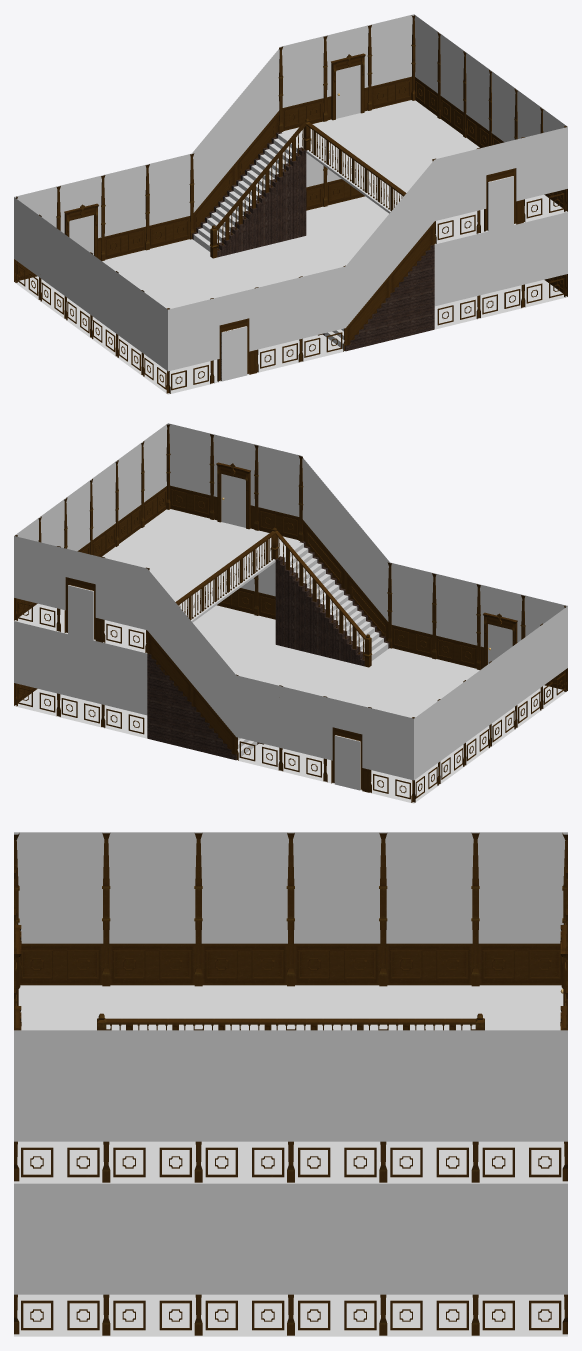
The model's file is Roulette_room_asset.fbx.
The picture shows the model from 3 angles, top to bottom: view 1: azimuth 30°, elevation 25°; view 2: azimuth 150°, elevation 25°; view 3: azimuth 270°, elevation 25°; orthographic projection. The views are drawn at different scales.
Visible parts, largest first — view 1: Plane.008, stairs0.003, Plane.132, stairs0.004, Plane.120, Plane.121, Plane.042, Plane.040, Plane.112, Plane.030, Plane.113, Plane.029 (+61 smaller); view 2: Plane.008, stairs0.004, Plane.132, stairs0.003, Plane.113, Plane.112, Plane.029, Plane.030, Plane.040, Plane.115, Plane.121, Plane.120 (+62 smaller); view 3: Plane.116, Plane.119, Plane.118, Plane.117, Plane.114, Plane.110, Plane.025, Plane.038, Plane.044, Plane.047, Plane.024, Plane.028 (+45 smaller).
Part boxes in pixels (x1,y1,x2,y2): Plane.008: (191,47,434,345); stairs0.003: (192,122,306,258); Plane.132: (161,240,355,304); stairs0.004: (318,244,434,351); Plane.120: (147,153,191,248); Plane.121: (103,164,147,259); Plane.042: (369,14,413,109); Plane.040: (281,36,324,130); Plane.112: (257,277,301,368); Plane.030: (434,148,478,239); Plane.113: (301,266,345,357); Plane.029: (523,127,567,218); Plane.008: (147,456,390,754); stairs0.004: (275,531,389,667); Plane.132: (226,649,420,713); stairs0.003: (147,654,263,760); Plane.113: (390,562,434,657); Plane.112: (434,573,478,668); Plane.029: (168,423,212,518); Plane.030: (257,445,300,539); Plane.040: (103,557,147,648); Plane.115: (369,708,413,799); Plane.121: (280,686,324,777); Plane.120: (236,675,280,766); Plane.116: (383,832,475,985); Plane.119: (106,832,198,985); Plane.118: (198,832,290,985); Plane.117: (291,832,383,985); Plane.114: (475,832,567,985); Plane.110: (14,832,106,985); Plane.025: (291,1030,383,1177); Plane.038: (14,1030,106,1177); Plane.044: (14,1183,106,1330); Plane.047: (291,1183,383,1330); Plane.024: (198,1030,290,1177); Plane.028: (475,1030,567,1177).
Bounding box in the file's own units: 1800 × 732 × 1200.
